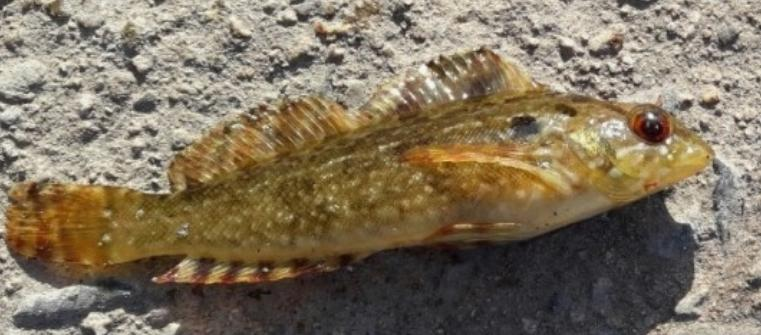fish: (5, 48, 712, 282)
